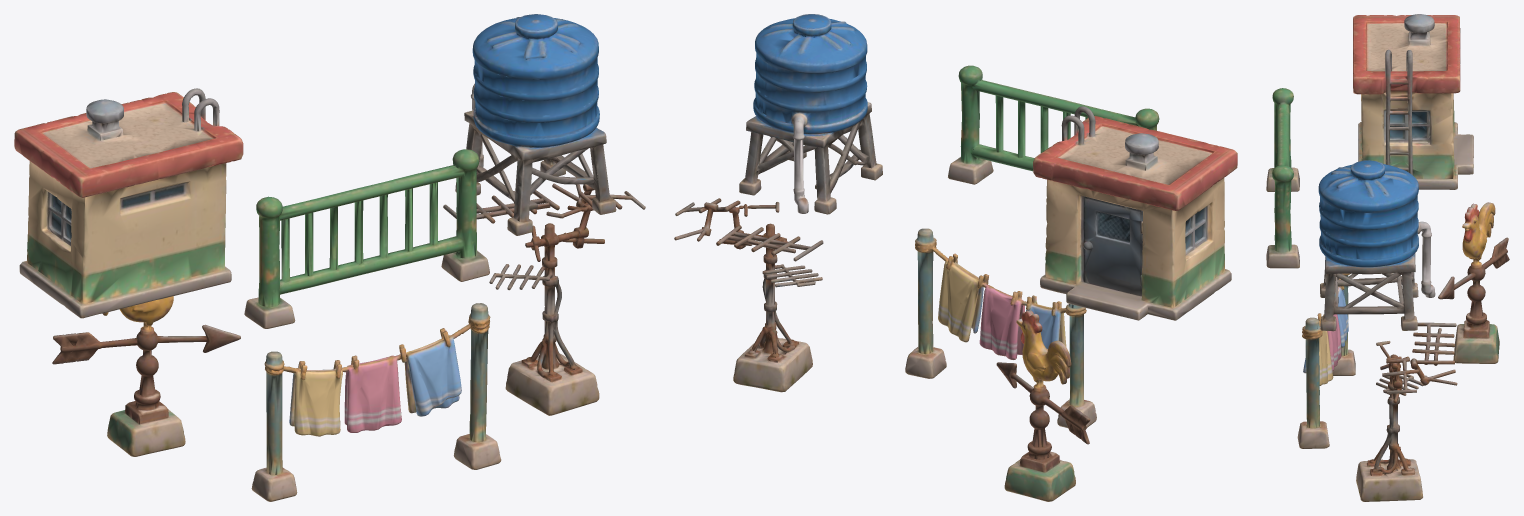
Rendered from set_roof.glb.
3 renders of one model, left to right at view 1: azimuth 30°, elevation 25°; view 2: azimuth 150°, elevation 25°; view 3: azimuth 270°, elevation 25°, orthographic. The views are drawn at different scales.
Visible parts, largest first — view 1: p0, p1; view 2: p0, p1; view 3: p0, p1.
Boxes of the visible parts, x1,y1,x2,y2 form: p0: (14, 88, 501, 501); p1: (443, 14, 645, 415); p0: (905, 65, 1237, 501); p1: (674, 14, 882, 392); p0: (1266, 14, 1509, 448); p1: (1318, 160, 1457, 501).
Bounding box in the file's own units: 5.78 × 3.7 × 2.6.
1 material, 1 textured.
